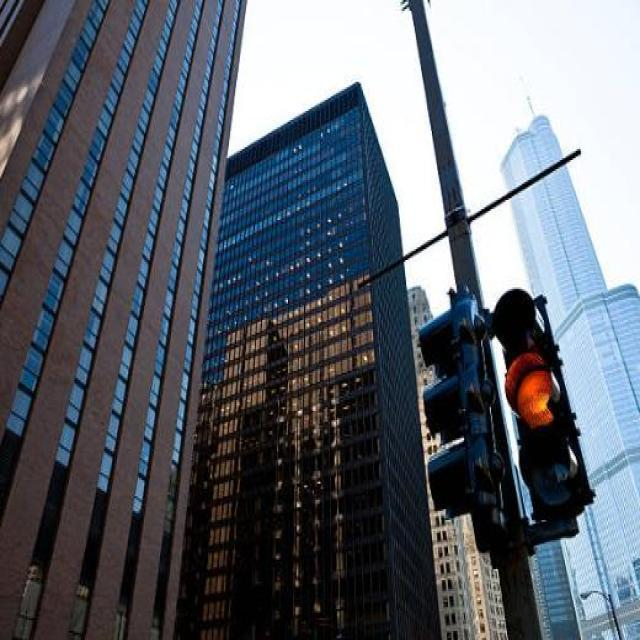yellow_light: (491, 288, 594, 525)
